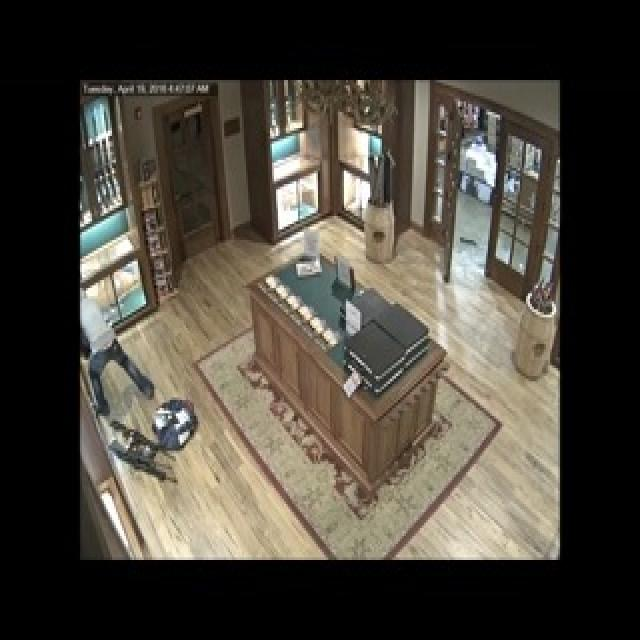thief: (76, 288, 139, 442)
